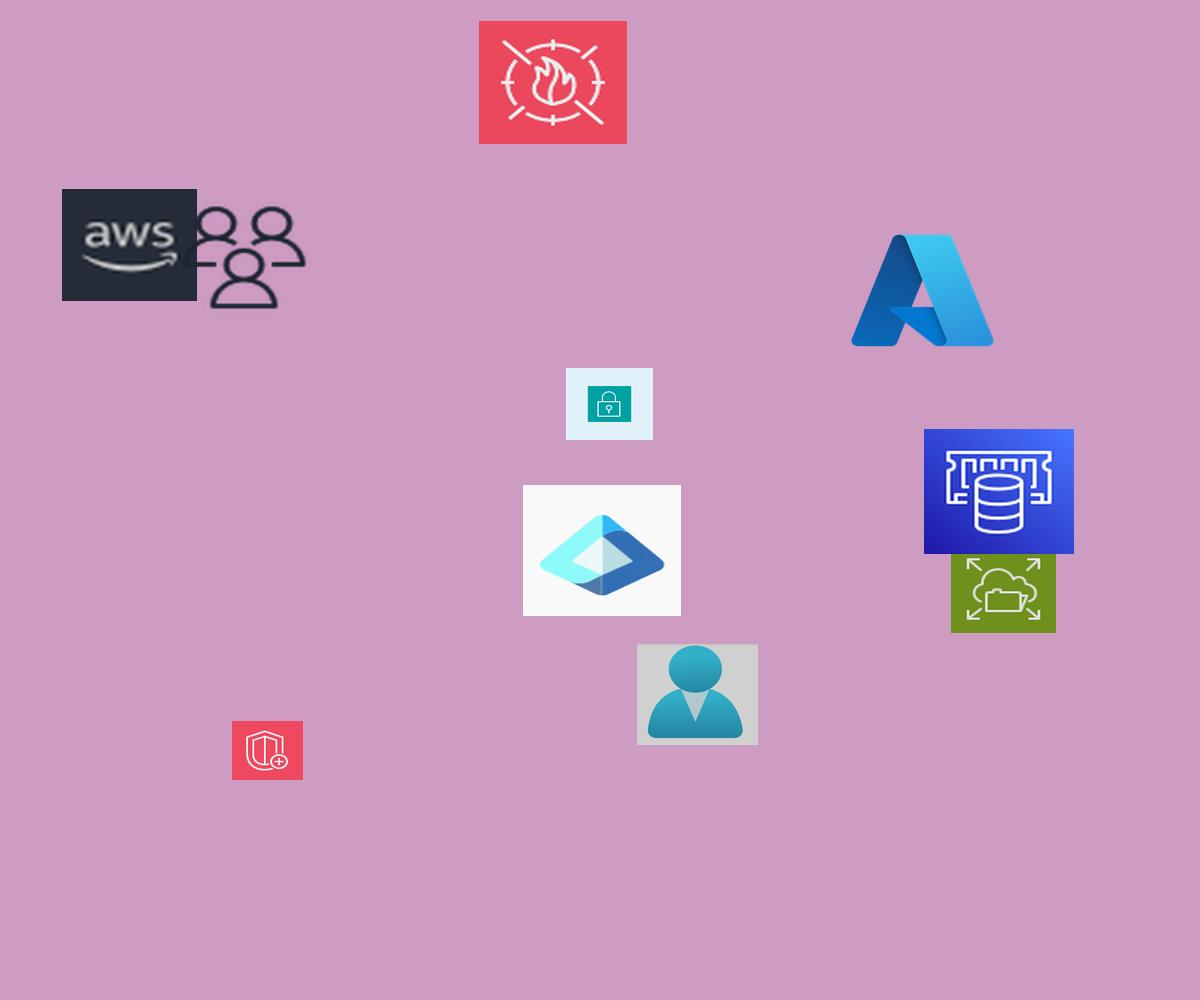AWS-Cloud-logo: (62, 189, 197, 301)
AWS-EFS: (951, 545, 1056, 633)
AWS-ElastiCache: (924, 429, 1074, 554)
AWS-Private-subnet: (566, 368, 653, 440)
AWS-Res_Users: (177, 202, 311, 313)
AWS-Shield: (232, 721, 303, 780)
AWS-WAF: (479, 21, 627, 144)
Azure_microsoft_entra: (523, 485, 681, 616)
Azure_services: (845, 226, 1000, 355)
Azure_users: (637, 644, 758, 745)
